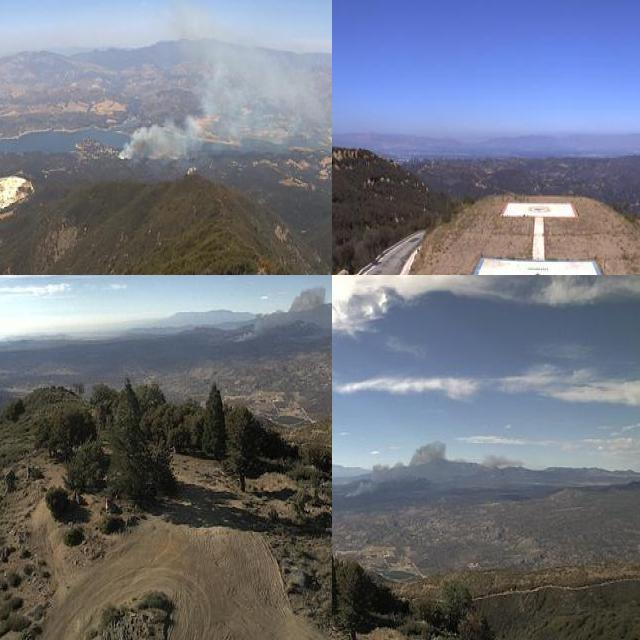smoke: (118, 0, 332, 164), (341, 435, 451, 504), (230, 282, 327, 346)
